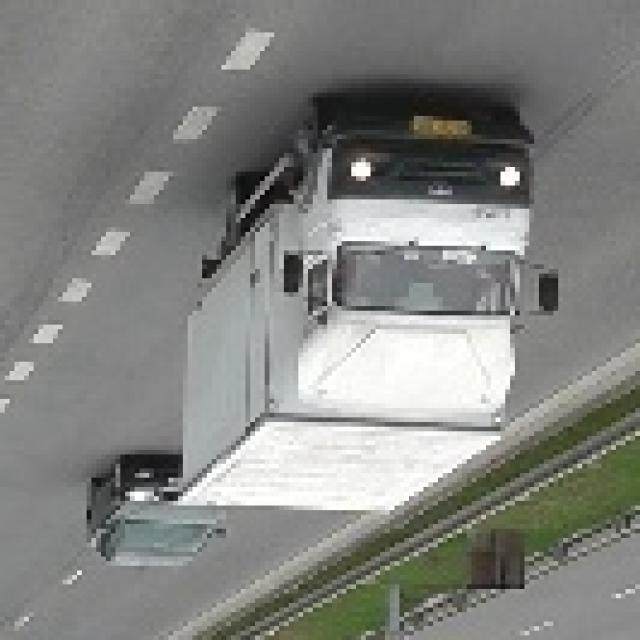Truck: (178, 88, 558, 515)
